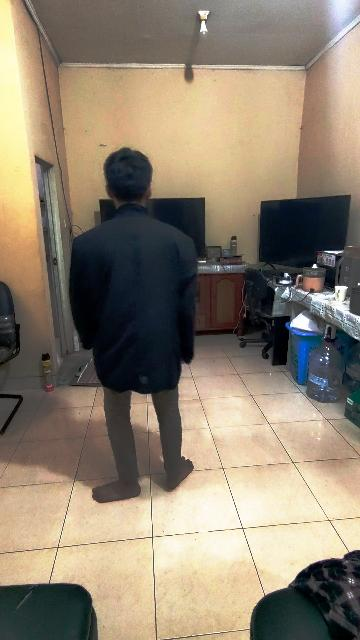berdiri: (76, 145, 198, 500)
